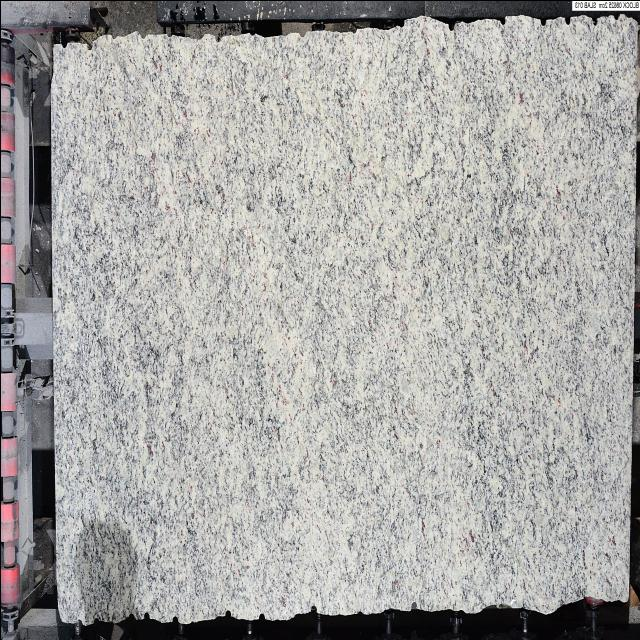chapa: (51, 17, 635, 624)
